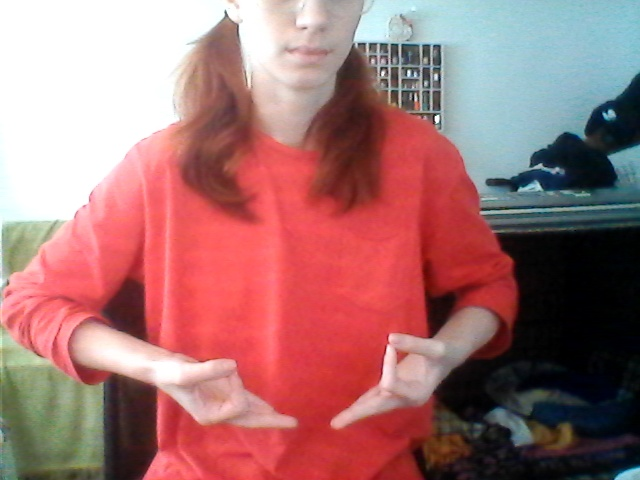preco: (157, 320, 465, 440)
